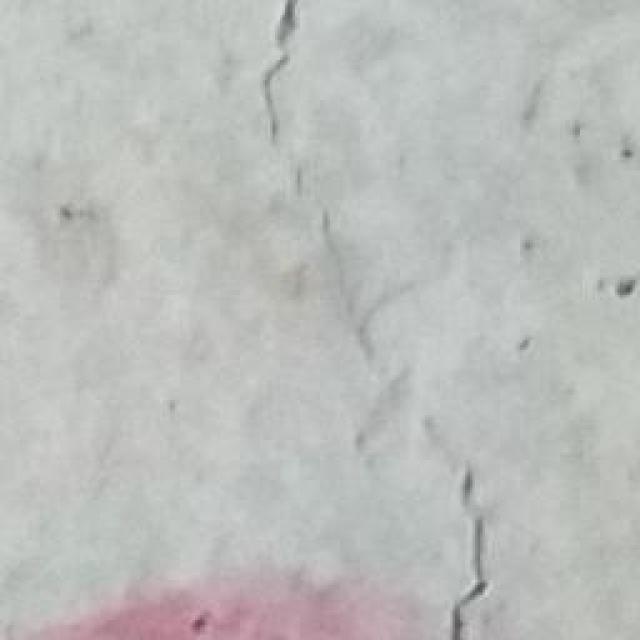Longitudinal: (243, 0, 495, 638)
